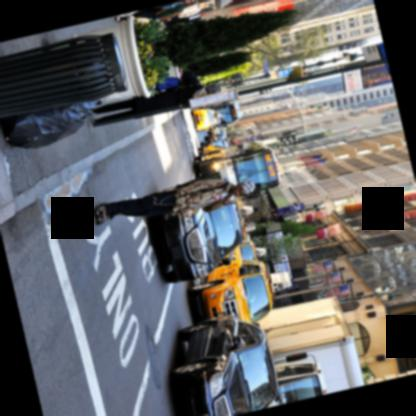backpack: (175, 172, 221, 189)
handbag: (3, 99, 103, 149), (155, 77, 178, 92)
